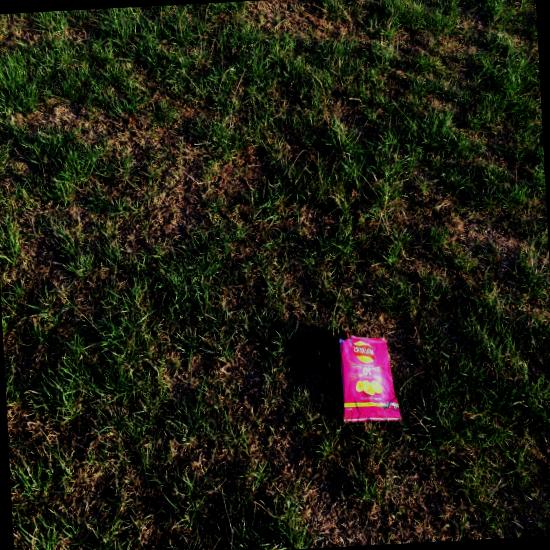Rope - strings: (239, 50, 282, 116)
Unlabeled litter: (360, 110, 381, 129)
